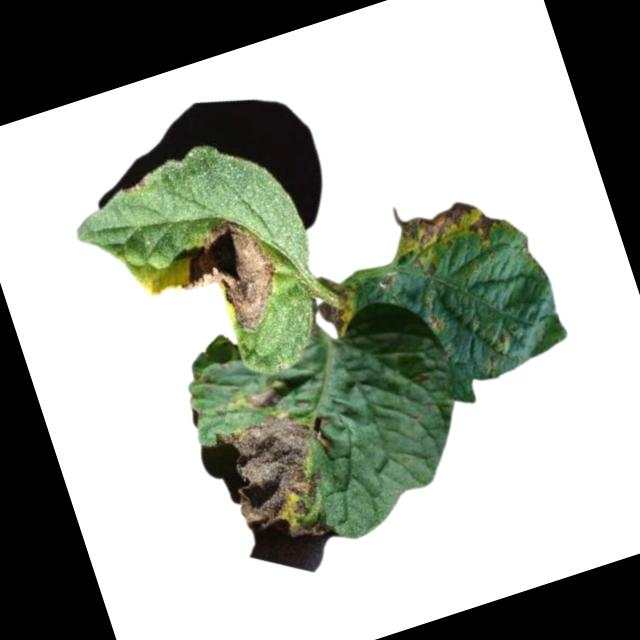Early_blight: (210, 402, 363, 563), (165, 210, 292, 348), (381, 192, 508, 275), (309, 276, 361, 343), (240, 385, 281, 415)
